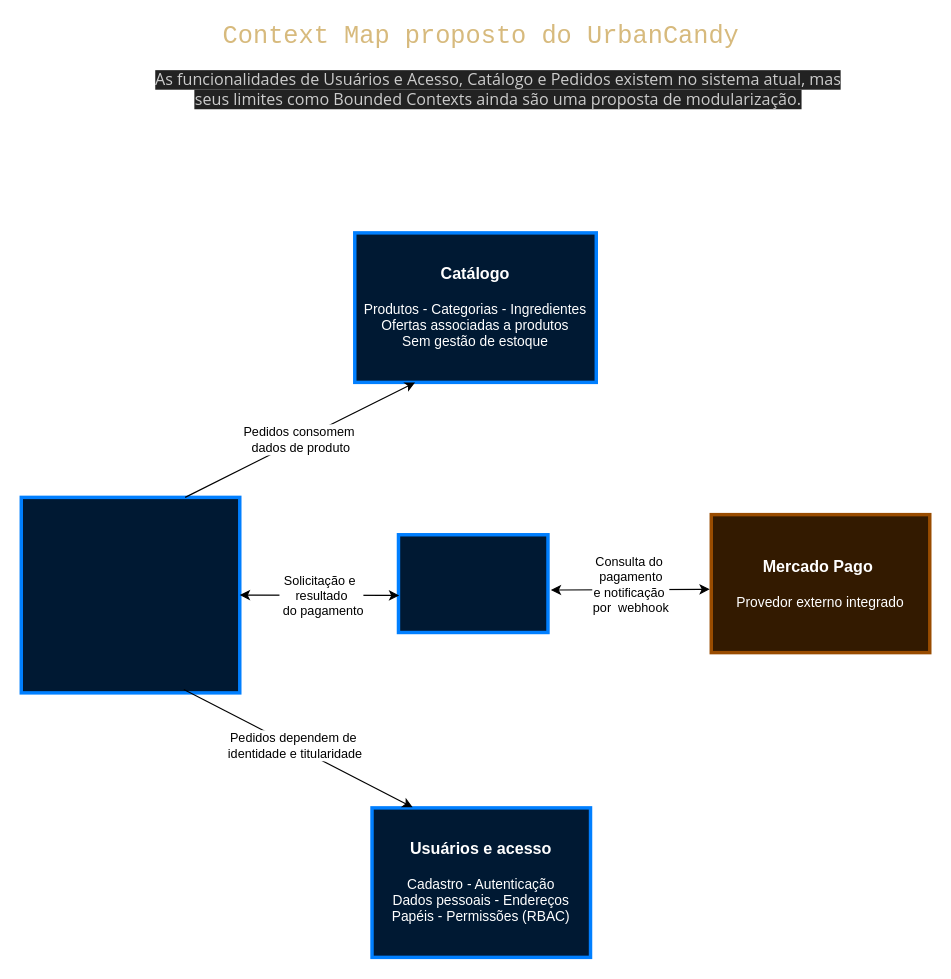
Some shapes in this 951 by 979 pixel diagram are drawn without their labels. The shapes that lost their labels are listed below. From the top down, each one's centre as x and y in pixels, then its label:
At (130,594): "Pedidos Gerencia pedidos, itens e status solicita o processamento de pagamento".
At (472,583): "Pagamentos".
